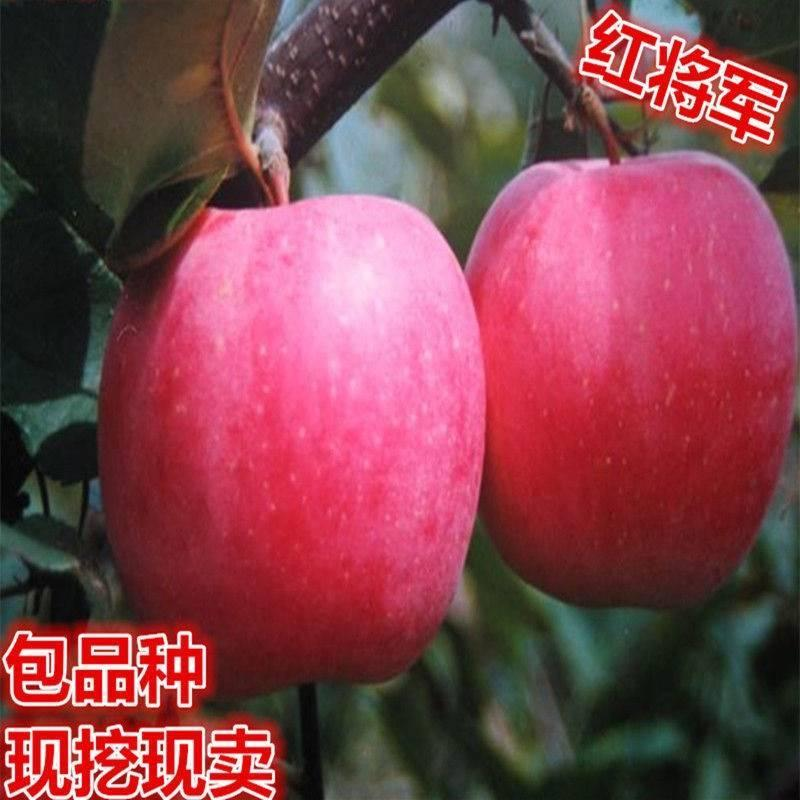apple: (90, 186, 492, 696), (466, 153, 800, 601)
